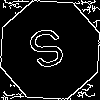S: (25, 25, 72, 80)
